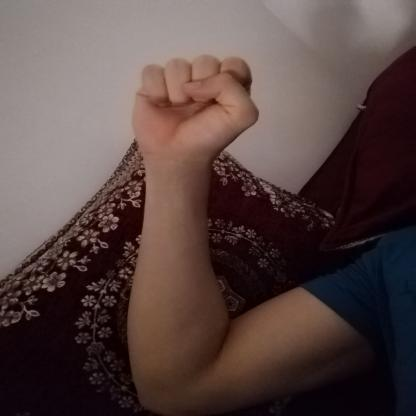SAD: (115, 42, 288, 173)
